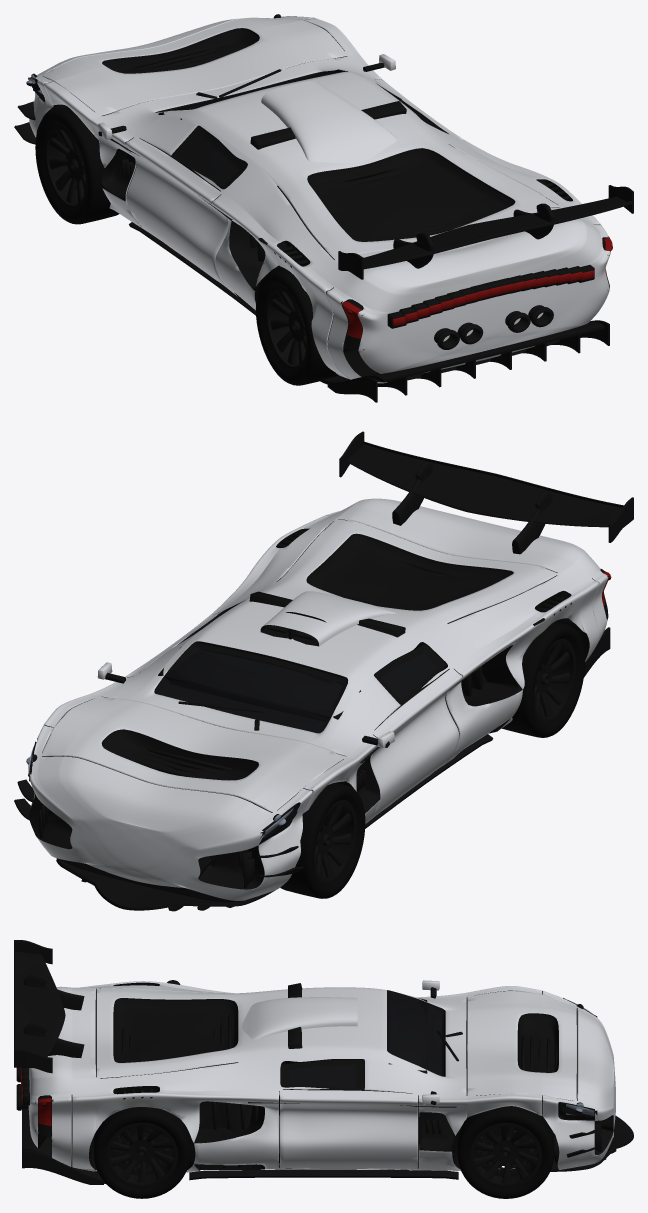
Rendered from hifi_hyper_coupe.glb.
The picture shows the model from 3 angles, top to bottom: view 1: azimuth 30°, elevation 25°; view 2: azimuth 150°, elevation 25°; view 3: azimuth 270°, elevation 25°; orthographic projection. The views are drawn at different scales.
Visible parts, largest first — view 1: hifi_hyper_coupe; view 2: hifi_hyper_coupe; view 3: hifi_hyper_coupe.
Part boxes in pixels (box(x1,y1,x2,y2)): hifi_hyper_coupe: box(14, 14, 633, 402); hifi_hyper_coupe: box(14, 431, 633, 911); hifi_hyper_coupe: box(14, 940, 633, 1198).
Size of the model in its own units: 2.05 by 1.23 by 4.6.
